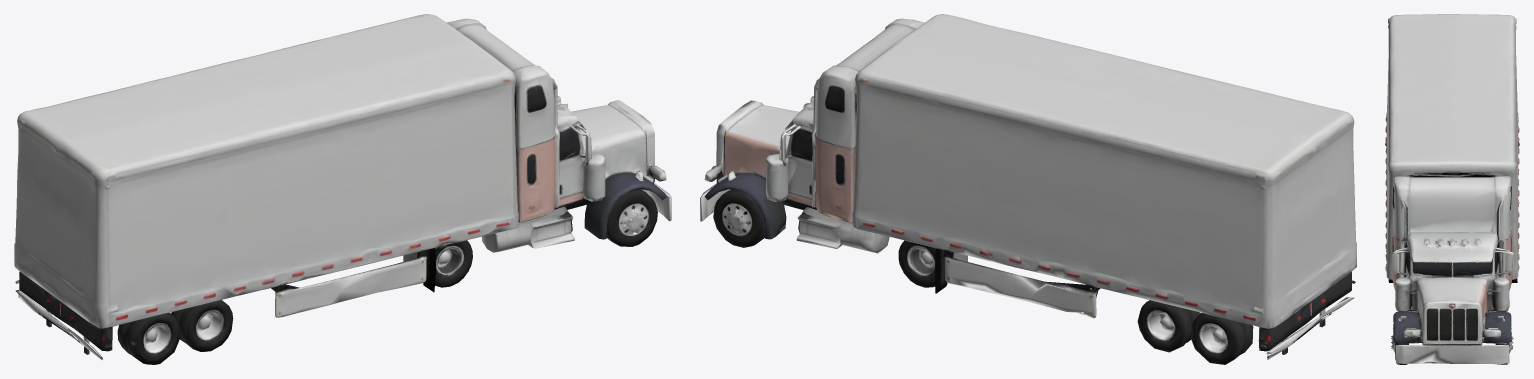
Rendered from semi.glb.
3 renders of one model, left to right at view 1: azimuth 30°, elevation 25°; view 2: azimuth 150°, elevation 25°; view 3: azimuth 270°, elevation 25°, orthographic. The views are drawn at different scales.
Parts seen in each view (by area): view 1: tripo_node_0eb9b5ff-263e-4fa0-81ad-de4d458327ed; view 2: tripo_node_0eb9b5ff-263e-4fa0-81ad-de4d458327ed; view 3: tripo_node_0eb9b5ff-263e-4fa0-81ad-de4d458327ed.
Part boxes in pixels (box(x1,y1,x2,y2)): tripo_node_0eb9b5ff-263e-4fa0-81ad-de4d458327ed: box(14, 14, 671, 364); tripo_node_0eb9b5ff-263e-4fa0-81ad-de4d458327ed: box(700, 14, 1356, 364); tripo_node_0eb9b5ff-263e-4fa0-81ad-de4d458327ed: box(1385, 14, 1519, 364).
Size of the model in its own units: 11.59 by 4 by 3.13.
1 material, 1 textured.
